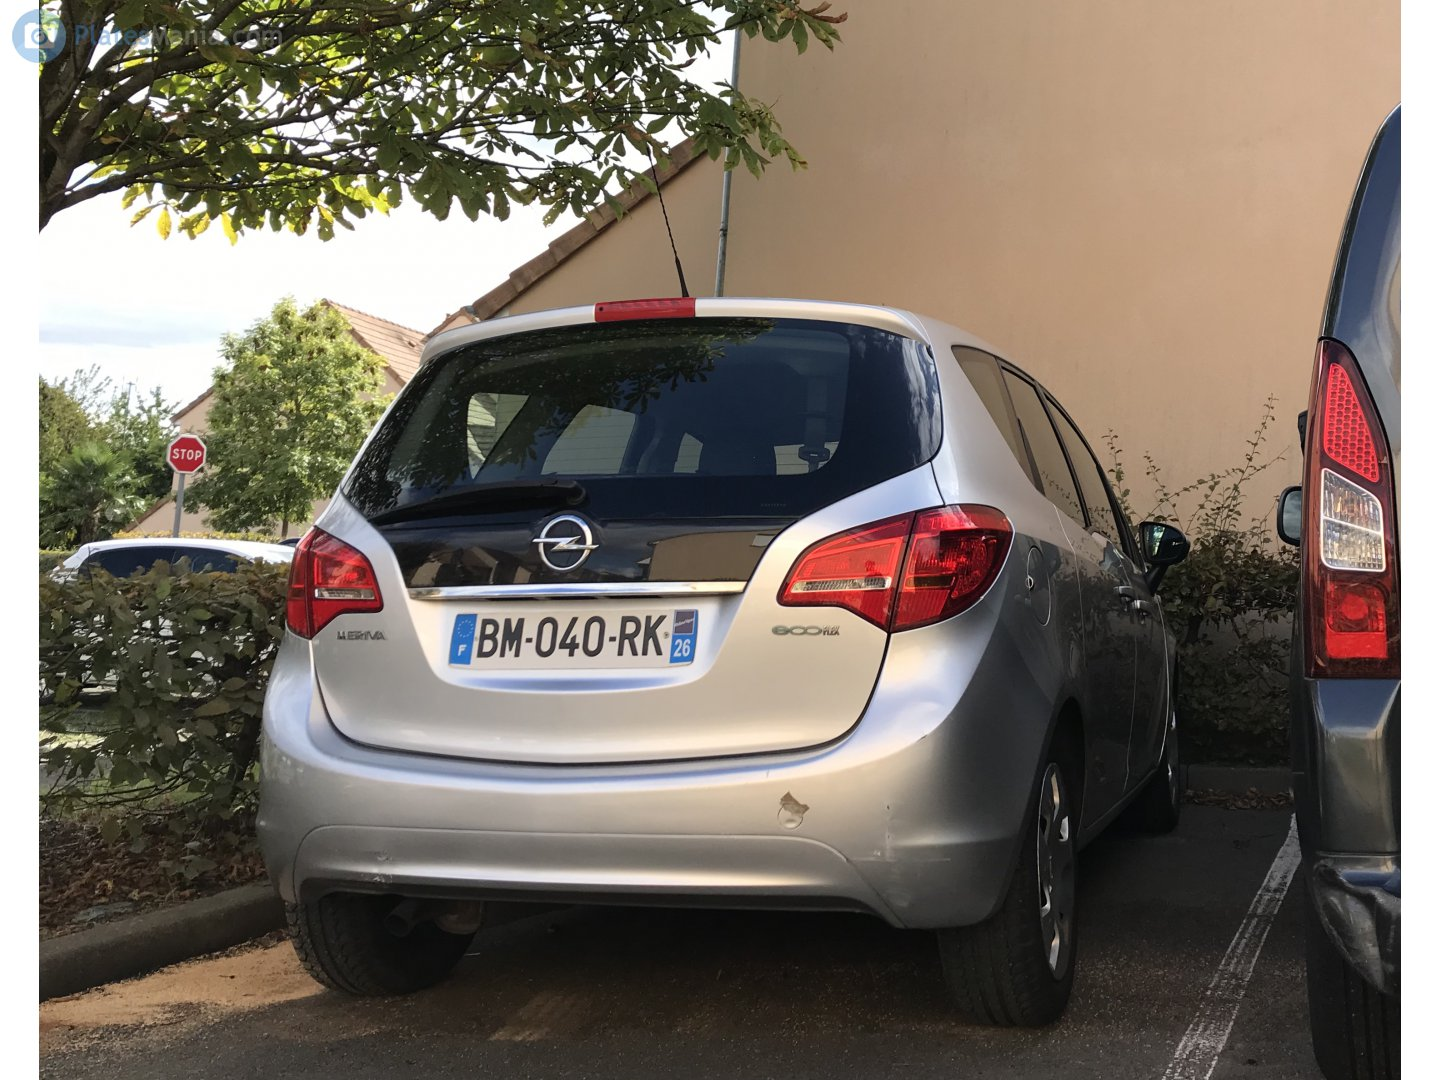licence plate: (445, 606, 698, 671)
